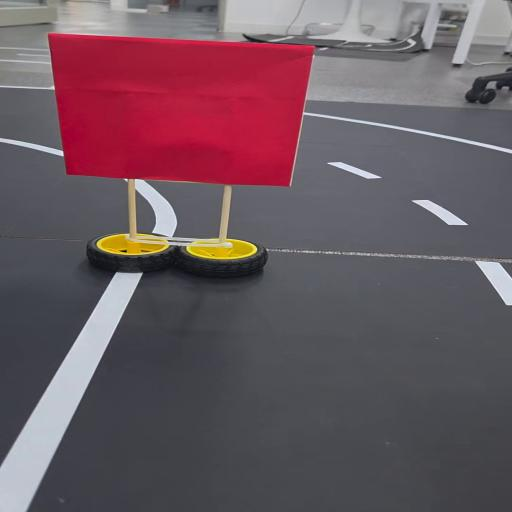Sign_A: (44, 28, 319, 298)
